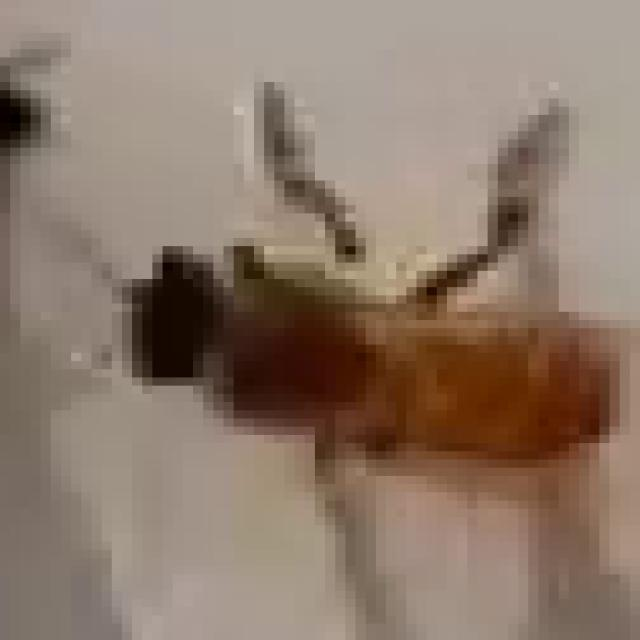honeybee: (102, 95, 591, 474)
